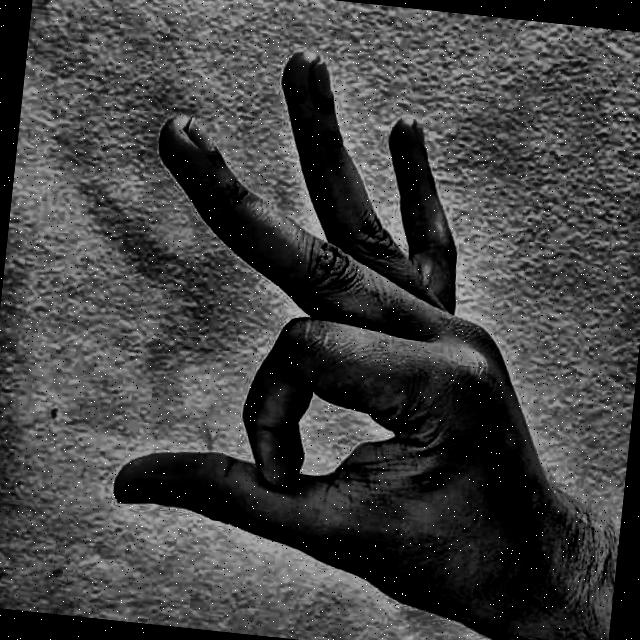Uo: (65, 10, 610, 640)
